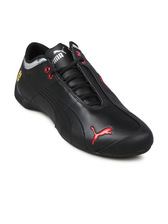shoes: (14, 41, 158, 160)
